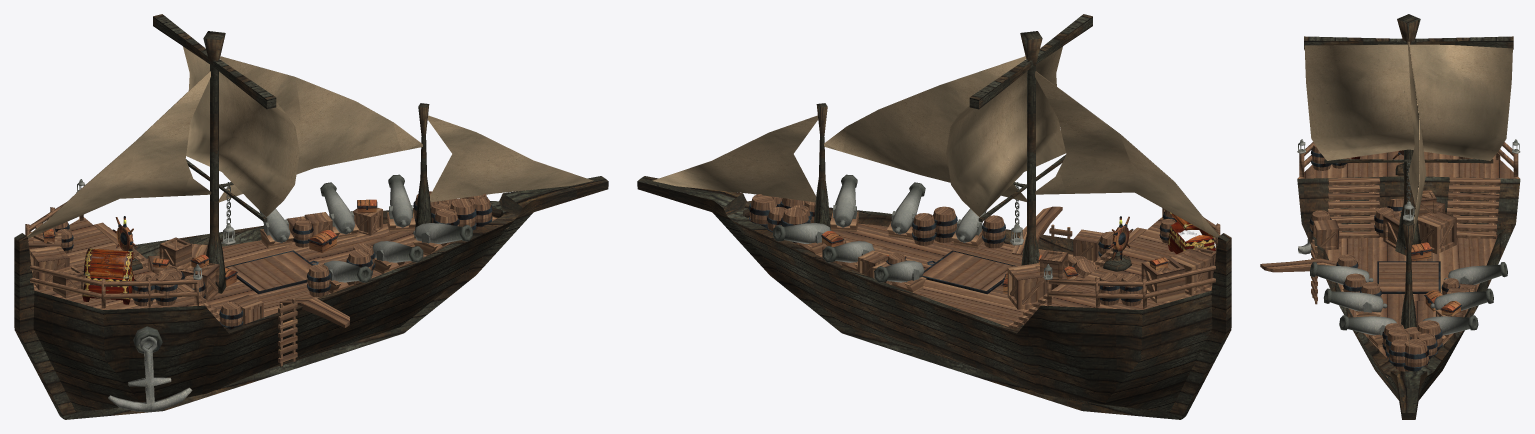
The model's file is pirateship.glb.
3 renders of one model, left to right at view 1: azimuth 30°, elevation 25°; view 2: azimuth 150°, elevation 25°; view 3: azimuth 270°, elevation 25°, orthographic. The views are drawn at different scales.
Visible parts, largest first — view 1: Ship_hull_7, Sail_back_8, Barrels.001_14, Ship_hull_floor_10, Lantern_0, Mast.001_12, Railing_9, Barrel_rims.001_16, Cube.005_2, Chests.005_15, Mast.002_13, Plane.001_1 (+2 smaller); view 2: Ship_hull_7, Sail_back_8, Barrels.001_14, Ship_hull_floor_10, Lantern_0, Mast.001_12, Railing_9, Barrel_rims.001_16, Mast.002_13, Cube.005_2, Stairs.002_11, Chests.005_15 (+1 smaller); view 3: Sail_back_8, Ship_hull_floor_10, Ship_hull_7, Barrels.001_14, Stairs.002_11, Lantern_0, Mast.001_12, Barrel_rims.001_16, Mast.002_13, Chests.005_15, Cube.001_5, Railing_9 (+1 smaller).
Part boxes in pixels (left/top/right/bottom): Ship_hull_7: left=14, top=176, right=608, bottom=419; Sail_back_8: left=27, top=46, right=593, bottom=238; Barrels.001_14: left=28, top=191, right=491, bottom=326; Ship_hull_floor_10: left=33, top=217, right=508, bottom=317; Lantern_0: left=76, top=174, right=473, bottom=412; Mast.001_12: left=153, top=14, right=276, bottom=293; Railing_9: left=25, top=202, right=198, bottom=308; Barrel_rims.001_16: left=55, top=197, right=492, bottom=329; Cube.005_2: left=82, top=248, right=133, bottom=304; Chests.005_15: left=42, top=199, right=377, bottom=286; Mast.002_13: left=414, top=103, right=431, bottom=238; Plane.001_1: left=278, top=298, right=297, bottom=366; Ship_hull_7: left=637, top=176, right=1231, bottom=419; Sail_back_8: left=652, top=46, right=1219, bottom=238; Barrels.001_14: left=749, top=194, right=1216, bottom=309; Ship_hull_floor_10: left=748, top=217, right=1215, bottom=326; Lantern_0: left=772, top=174, right=1052, bottom=282; Mast.001_12: left=969, top=14, right=1092, bottom=265; Railing_9: left=1047, top=208, right=1220, bottom=308; Barrel_rims.001_16: left=749, top=201, right=1176, bottom=302; Mast.002_13: left=814, top=103, right=830, bottom=229; Cube.005_2: left=1167, top=212, right=1215, bottom=254; Stairs.002_11: left=1008, top=227, right=1146, bottom=329; Chests.005_15: left=821, top=231, right=1168, bottom=293; Sail_back_8: left=1304, top=41, right=1512, bottom=354; Ship_hull_floor_10: left=1297, top=151, right=1519, bottom=377; Ship_hull_7: left=1297, top=176, right=1520, bottom=419; Barrels.001_14: left=1310, top=144, right=1476, bottom=371; Stairs.002_11: left=1328, top=177, right=1500, bottom=238; Lantern_0: left=1297, top=139, right=1520, bottom=335; Mast.001_12: left=1304, top=14, right=1513, bottom=255; Barrel_rims.001_16: left=1309, top=149, right=1460, bottom=371; Mast.002_13: left=1401, top=221, right=1416, bottom=328; Chests.005_15: left=1400, top=211, right=1461, bottom=316; Cube.001_5: left=1260, top=258, right=1336, bottom=272; Railing_9: left=1299, top=142, right=1518, bottom=177.
Bounding box in the file's own units: 19.73 × 11.52 × 8.22.
Materials: 8 (7 with a texture image).
